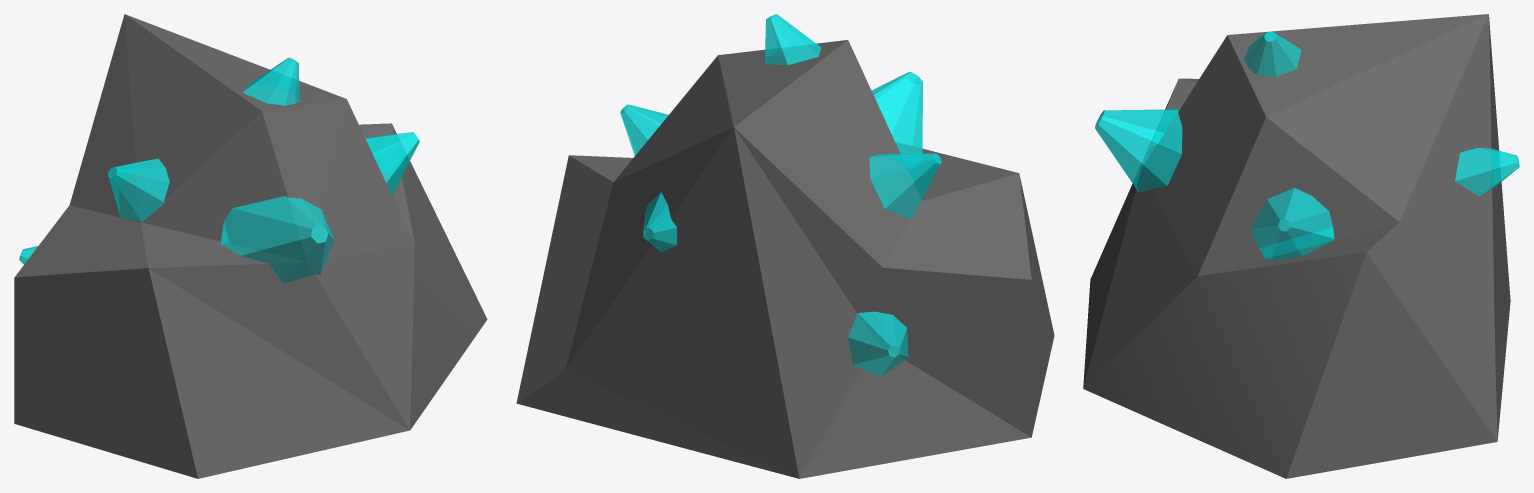
File: Ore_Node_Crystal_03.fbx
3 renders of one model, left to right at view 1: azimuth 30°, elevation 25°; view 2: azimuth 150°, elevation 25°; view 3: azimuth 270°, elevation 25°, orthographic. The views are drawn at different scales.
Visible parts, largest first — view 1: Model; view 2: Model; view 3: Model.
Boxes of the visible parts, x1,y1,x2,y2 form: Model: (14,14,487,478); Model: (516,14,1054,478); Model: (1083,14,1519,478).
Bounding box in the file's own units: 443 × 338 × 338.
